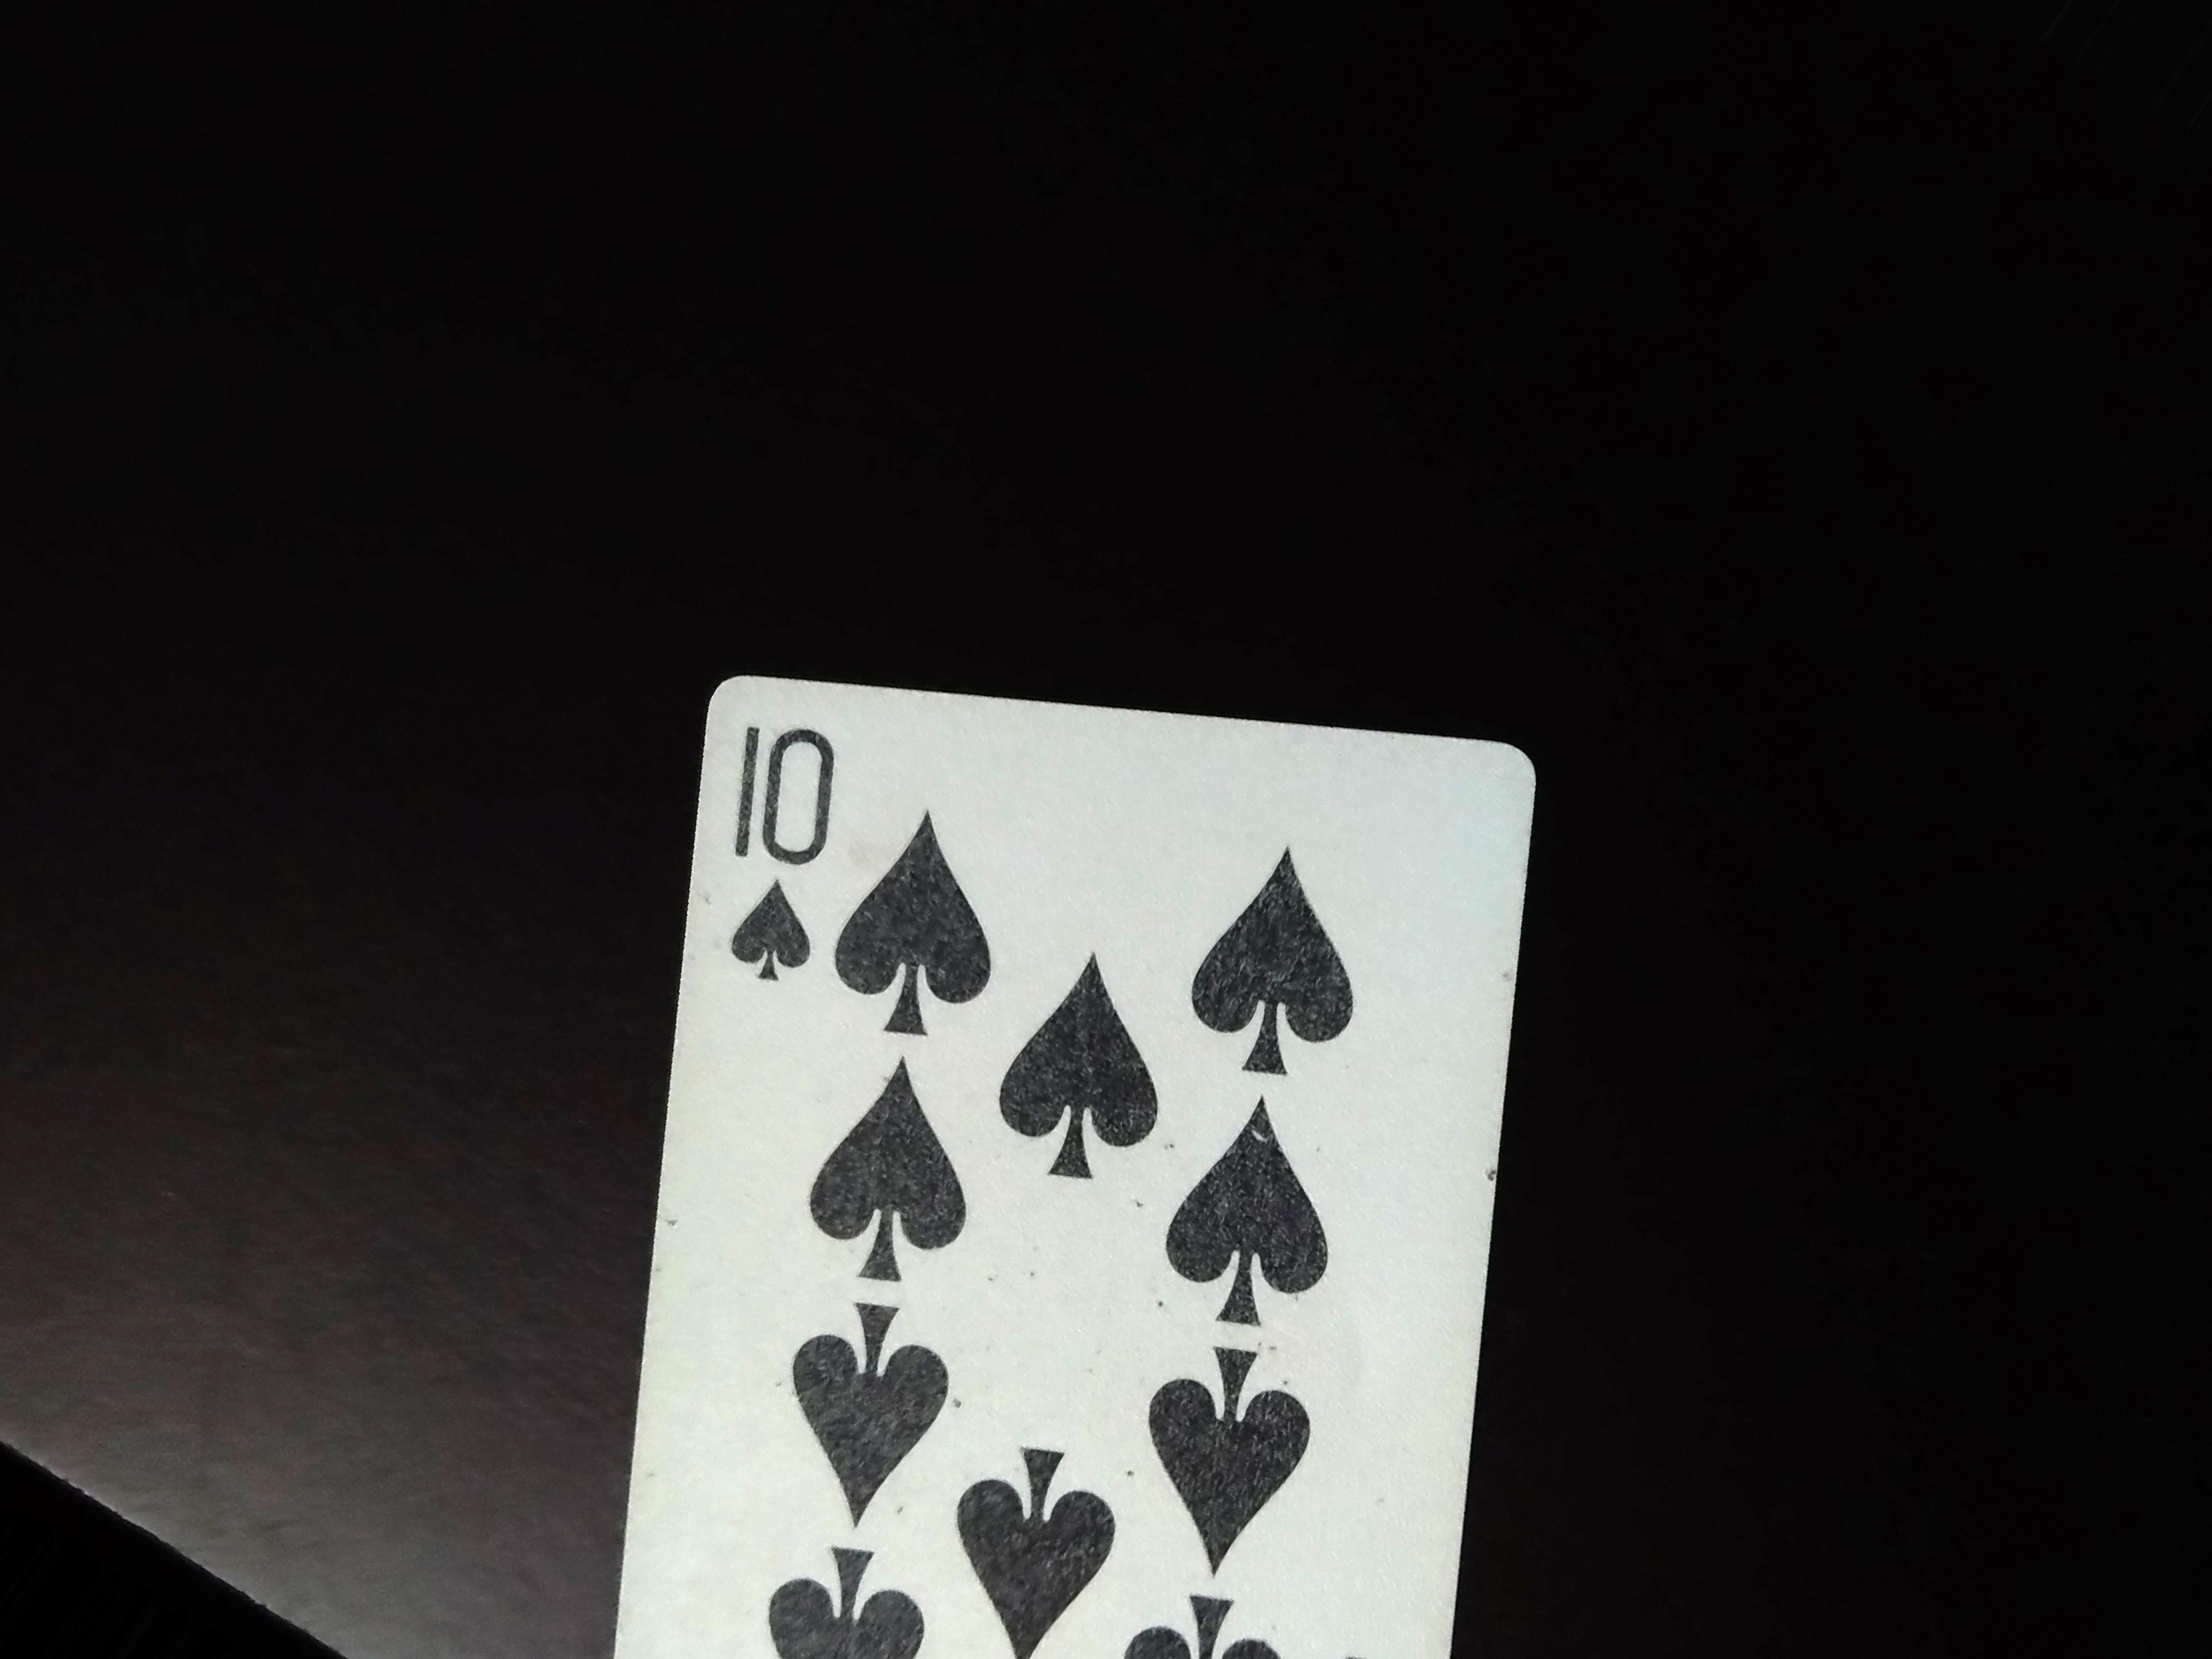10S: (735, 706, 840, 1004)
